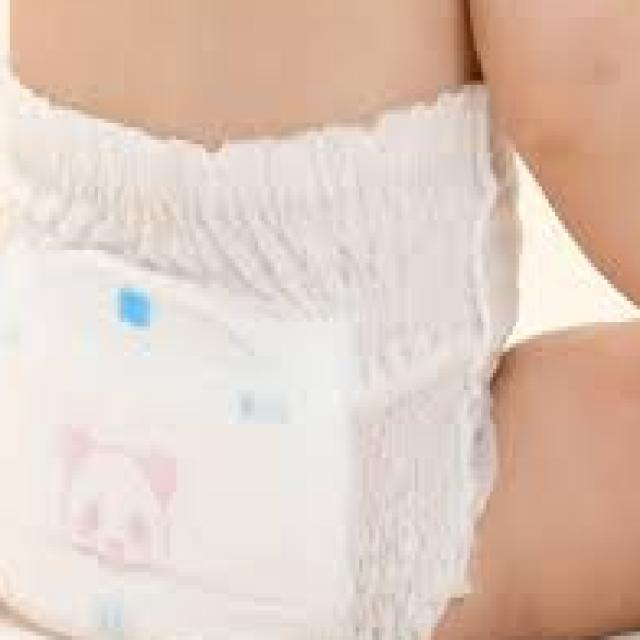organic: (9, 83, 509, 609)
